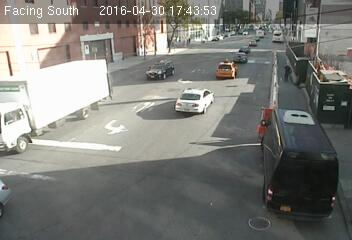neg: (67, 51, 90, 82), (185, 84, 205, 111), (73, 104, 93, 130), (8, 105, 24, 127), (52, 100, 68, 120), (250, 118, 264, 137), (100, 80, 112, 95)
pos: (279, 63, 295, 83)
